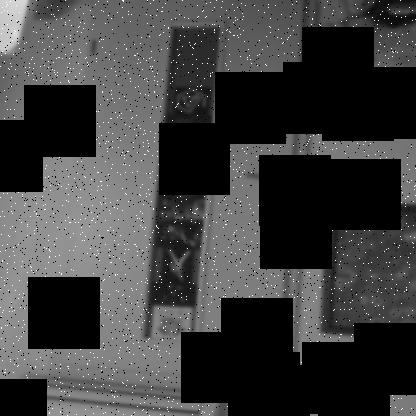Porte: (46, 0, 320, 395)
